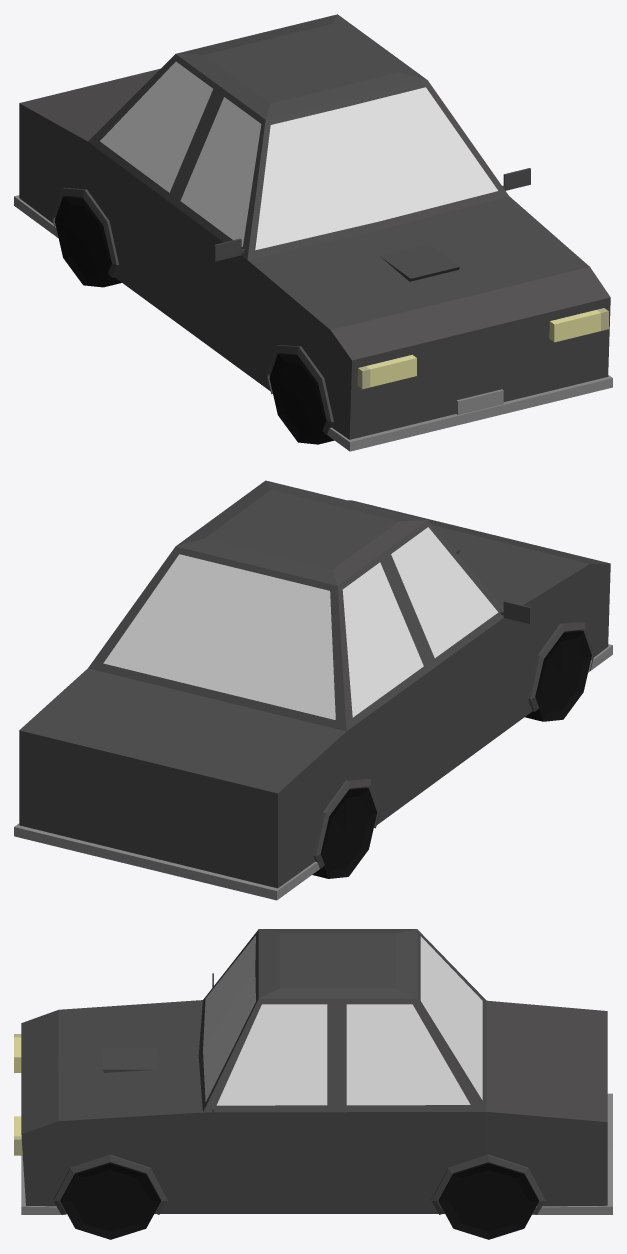
The model's file is Carro.fbx.
The picture shows the model from 3 angles, top to bottom: view 1: azimuth 30°, elevation 25°; view 2: azimuth 150°, elevation 25°; view 3: azimuth 270°, elevation 25°; orthographic projection. The views are drawn at different scales.
Parts seen in each view (by area): view 1: Carro; view 2: Carro; view 3: Carro.
Part boxes in pixels (x1=…): Carro: x1=14, y1=14, x2=612, y2=451; Carro: x1=14, y1=480, x2=612, y2=900; Carro: x1=14, y1=929, x2=612, y2=1239.
Bounding box in the file's own units: 181 × 138 × 338.
